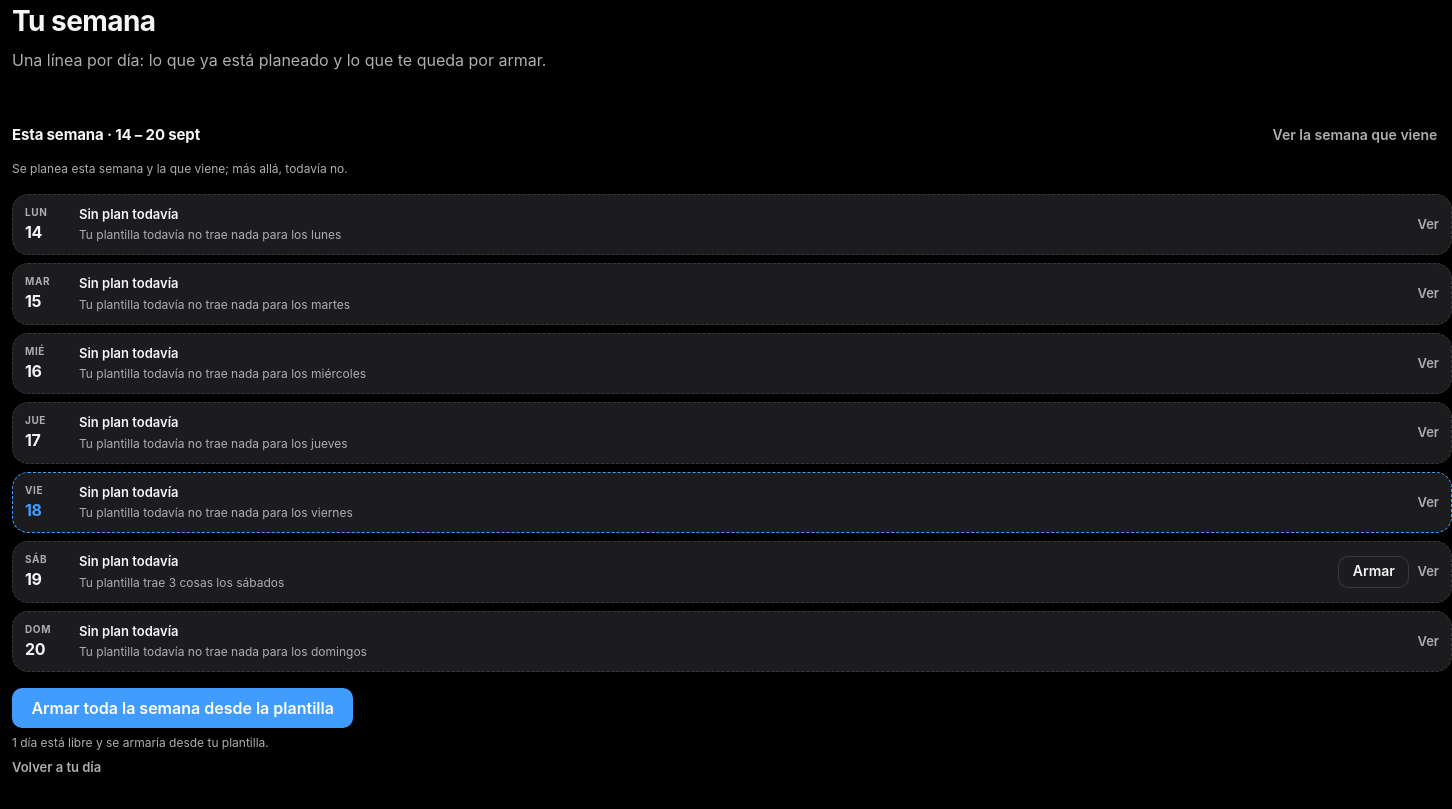
Scenario: VidaSemanaPage — armar (criterios 42, 45 y 46) › el resumen dice lo que hubo que ajustar, con la vía a ponerles hora (43 y 44)
Click the button "Armar" at (1374, 572), box [1338,556,1410,588]
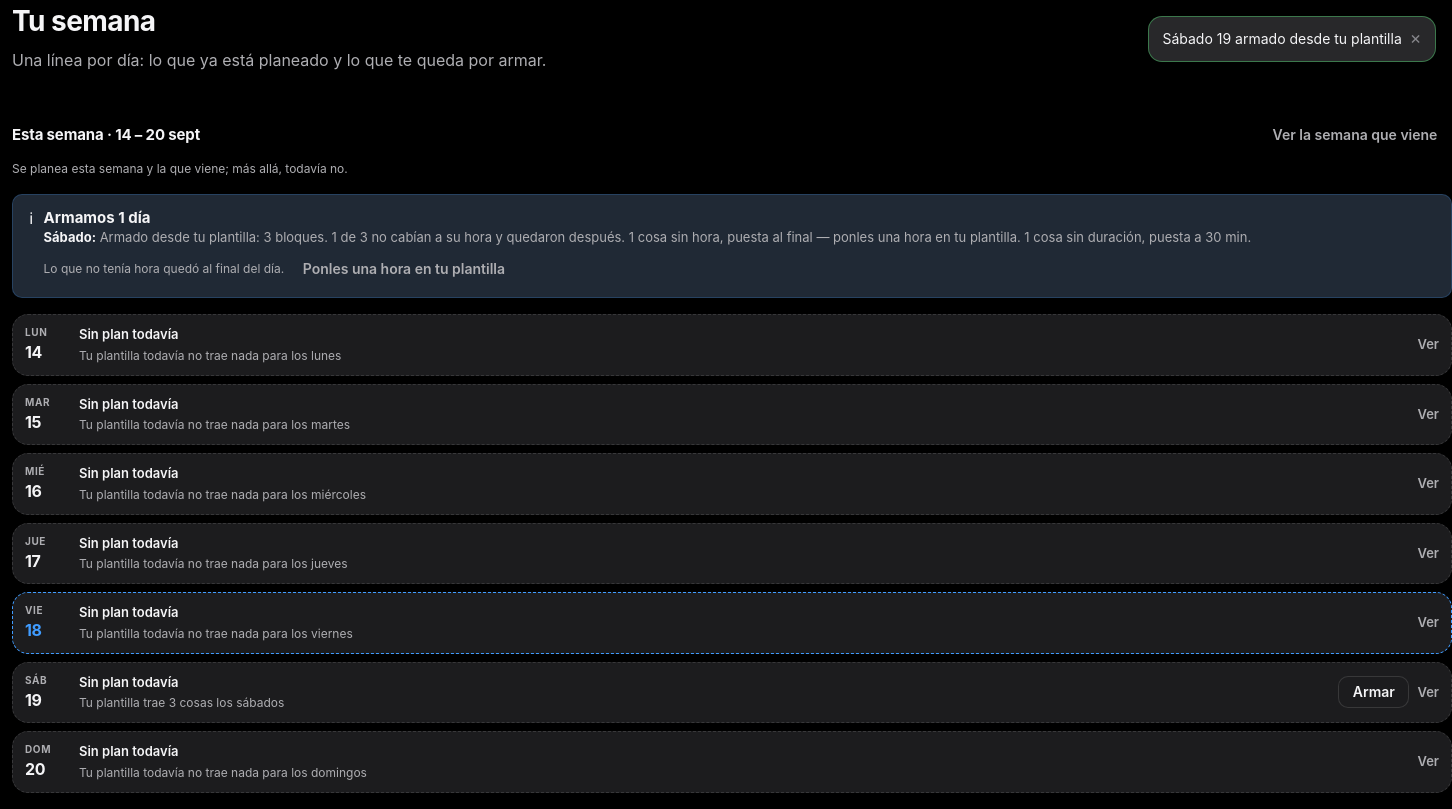
Now the list item "1 cosa sin hora, puesta al final — ponles una hora en tu plantilla" is shown, box [100,229,1251,245]
